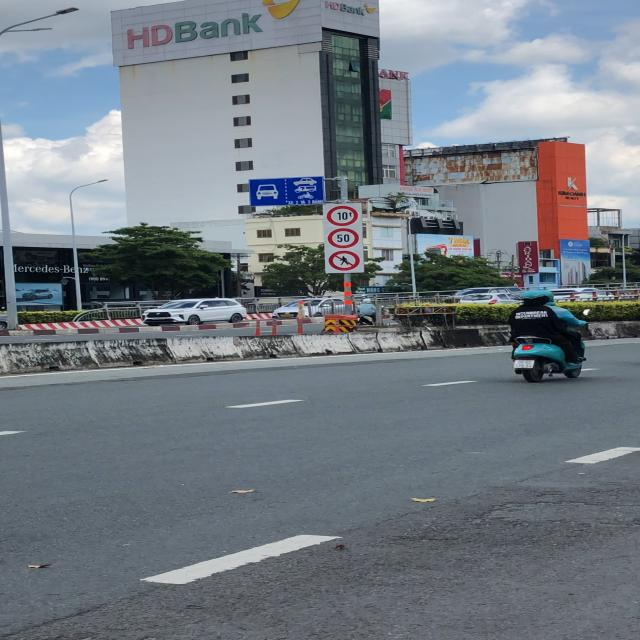Bien bao cam nguoi di bo: (328, 249, 363, 272)
Bien bao toc do toi da cho phep: (325, 228, 362, 249)
